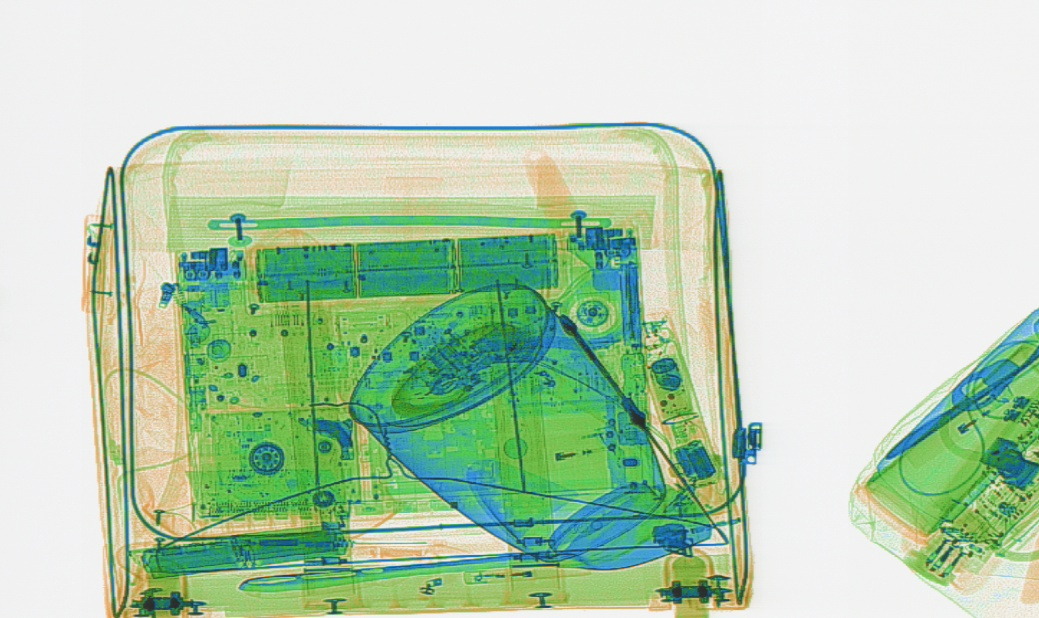lighter: (901, 377, 1013, 469), (524, 422, 621, 467), (461, 556, 593, 586)
powerbank: (129, 517, 350, 581)
